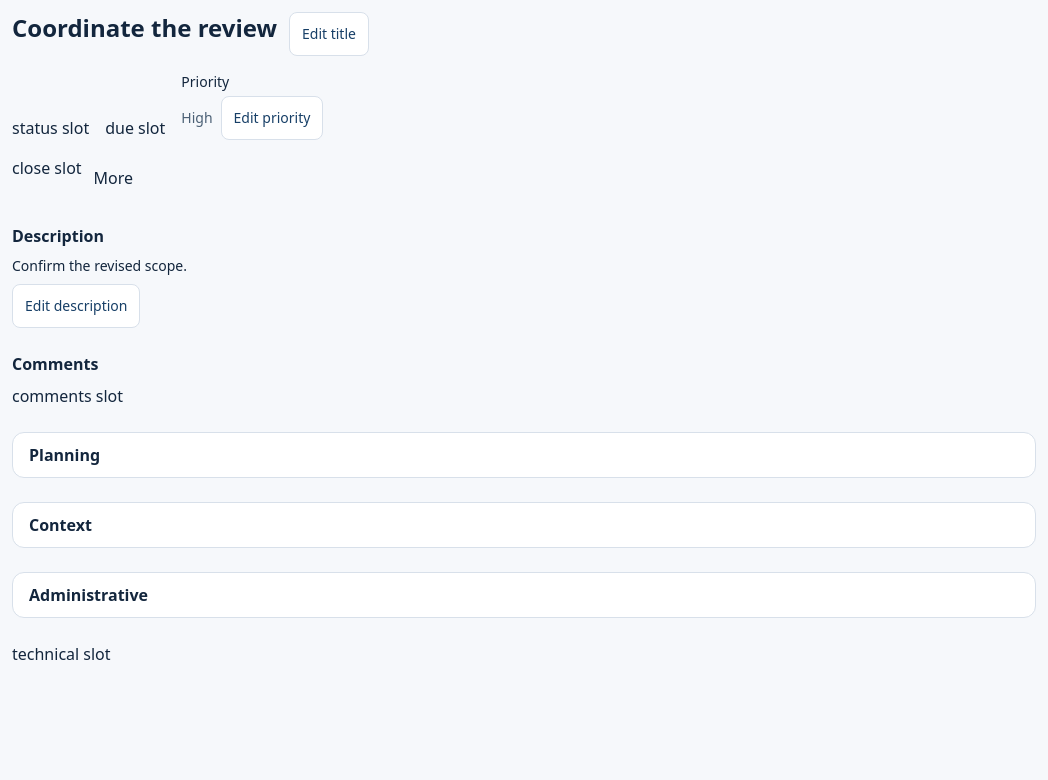
Test: progressive Task detail › saves a title only after Edit title, and Cancel restores the committed title
This screenshot has width=1048, height=780.
Expected: the button "Save title" is not shown
Click the button with test id "task-edit-title": {"x": 329, "y": 34} x1=289 y1=12 x2=369 y2=56
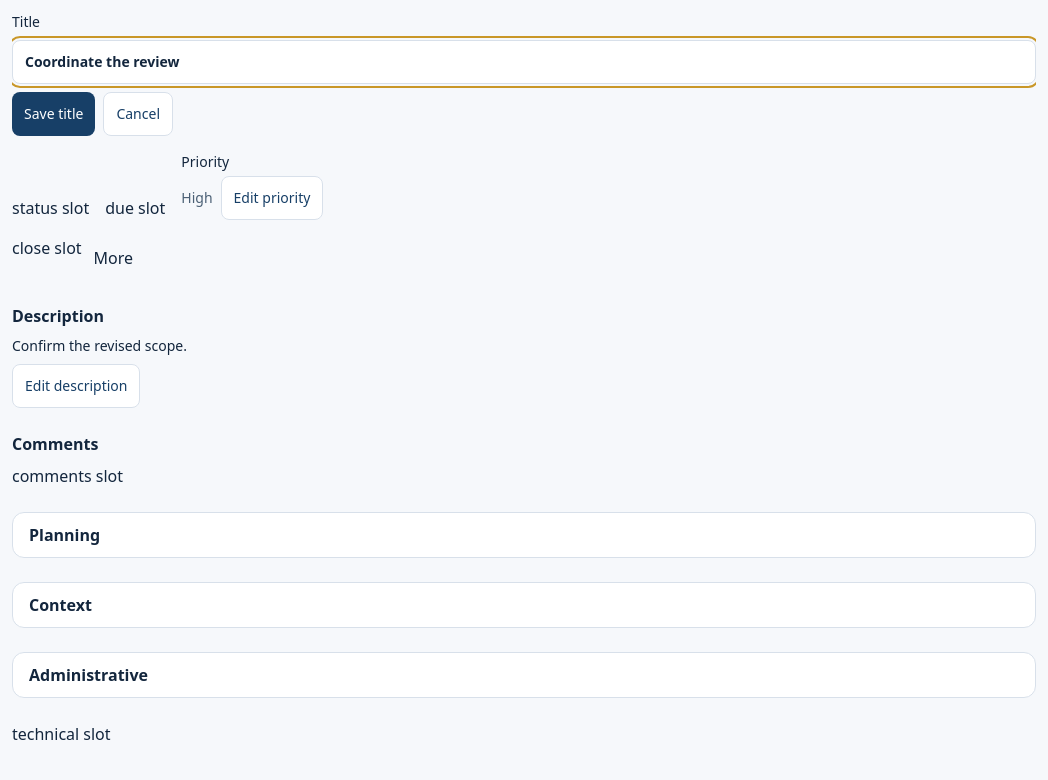
Replace the text in the field labelled "Title" with "Revised review title": {"x": 524, "y": 62} x1=12 y1=40 x2=1036 y2=84
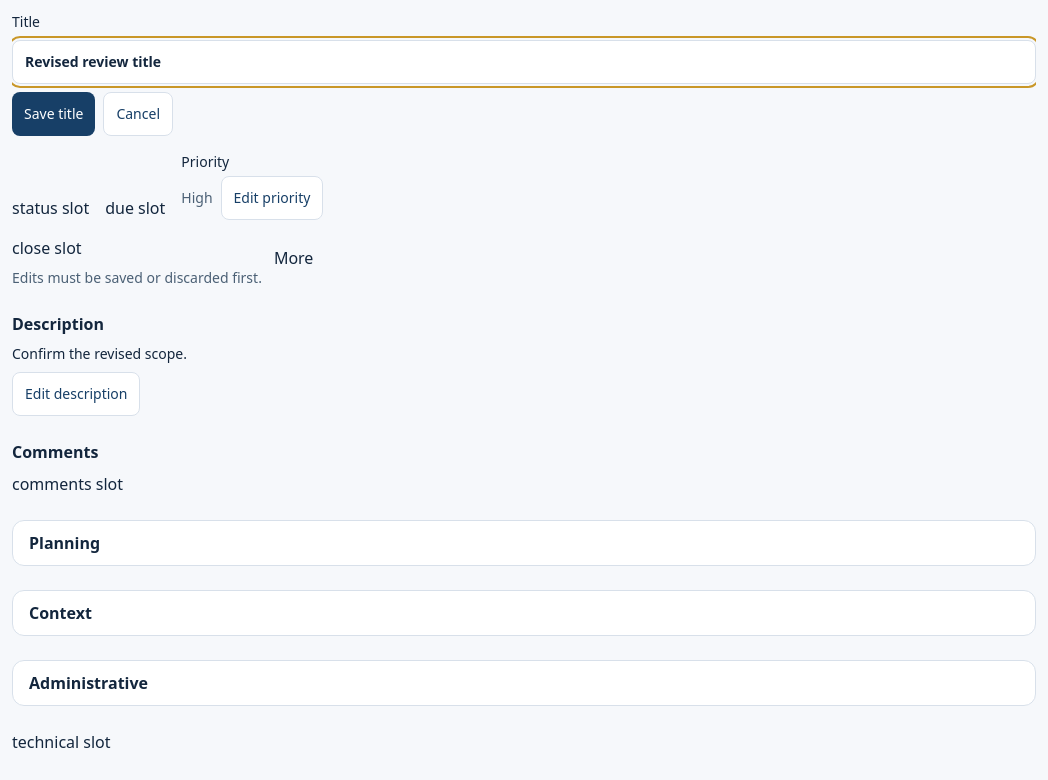
Click the button "Save title": {"x": 54, "y": 114} x1=12 y1=92 x2=95 y2=136
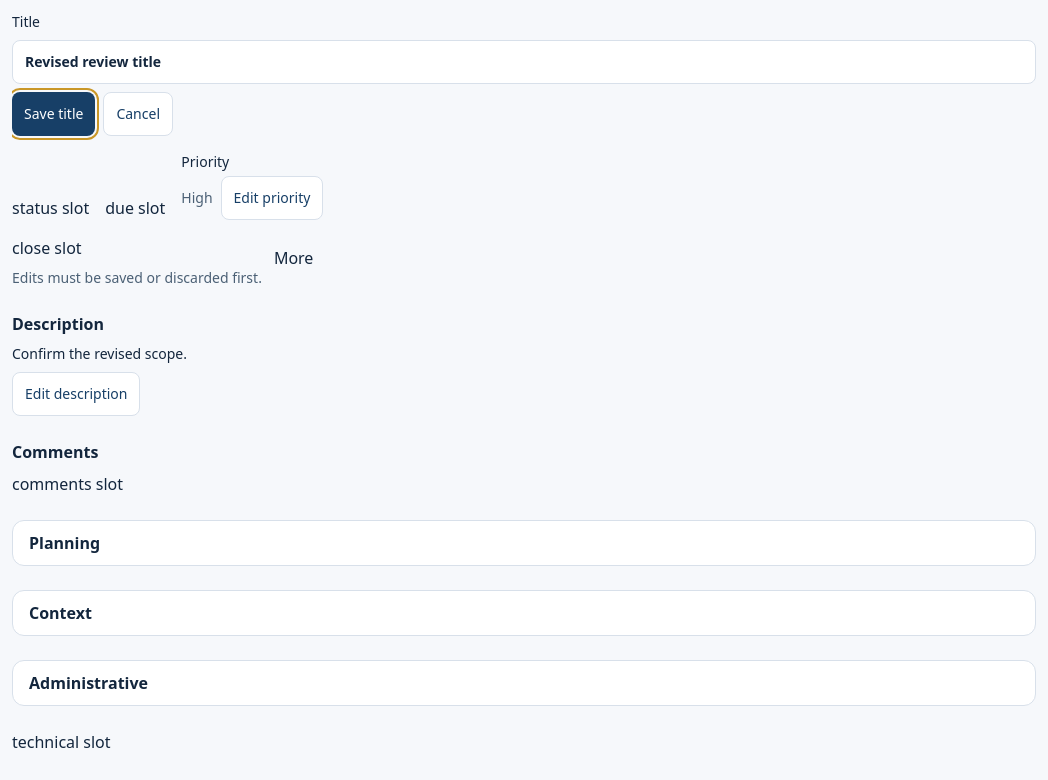
Click the button "Cancel": {"x": 138, "y": 114} x1=103 y1=92 x2=173 y2=136
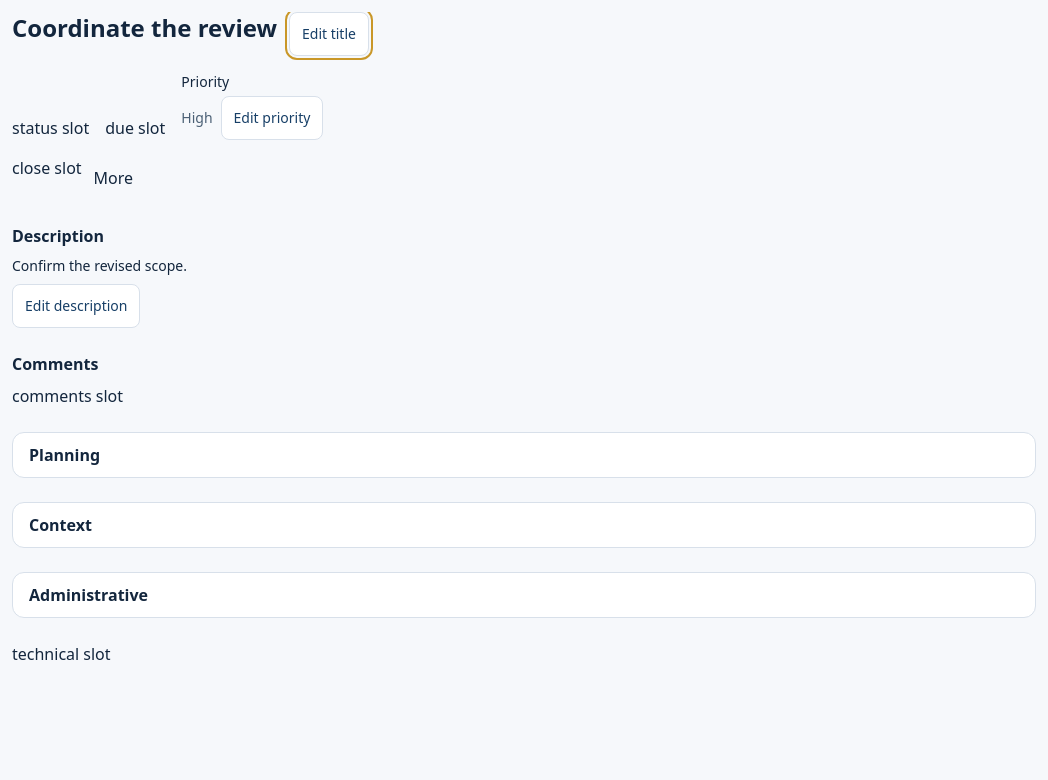
Expected: the heading "Coordinate the review" is shown, x1=12 y1=12 x2=277 y2=44
